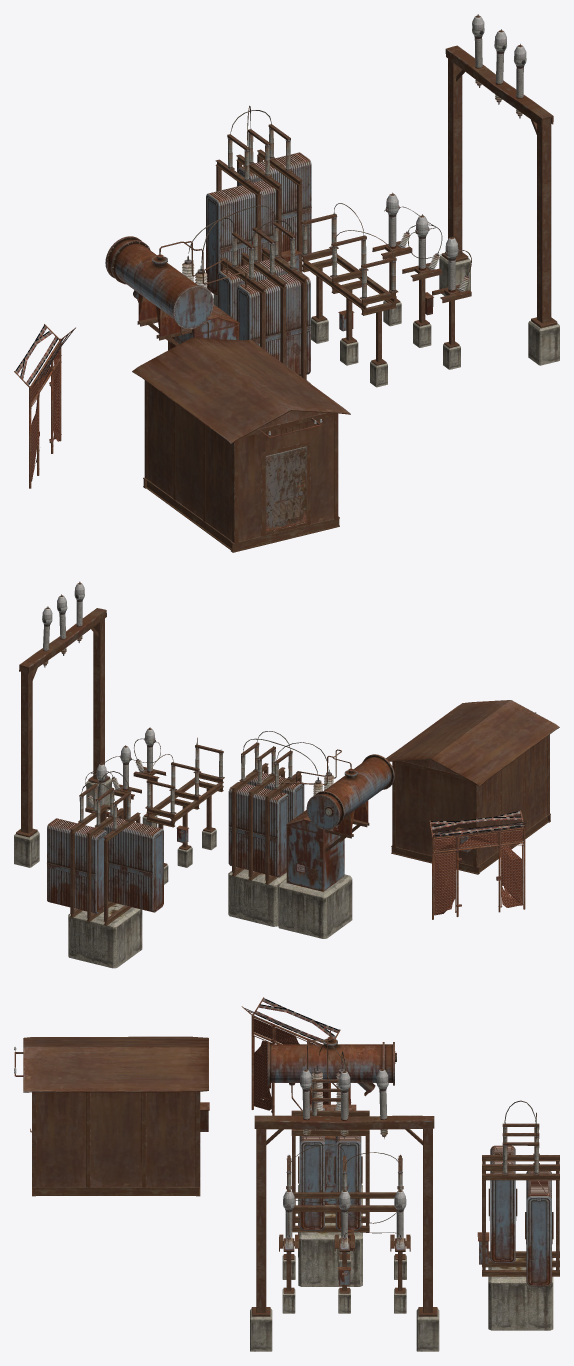
The model's file is power_sub_big_1-close.glb.
3 renders of one model, top to bottom at view 1: azimuth 30°, elevation 25°; view 2: azimuth 150°, elevation 25°; view 3: azimuth 270°, elevation 25°, orthographic. The views are drawn at different scales.
Visible parts, largest first — view 1: substation_b_LOD0, substation_d_LOD0, chainlink_fence_3x3_gate_LOD0; view 2: substation_b_LOD0, substation_d_LOD0, chainlink_fence_3x3_gate_LOD0; view 3: substation_b_LOD0, substation_d_LOD0, chainlink_fence_3x3_gate_LOD0.
Boxes of the visible parts, <box> form: substation_b_LOD0: <box>105,14,559,552</box>; substation_d_LOD0: <box>132,337,350,541</box>; chainlink_fence_3x3_gate_LOD0: <box>14,324,75,488</box>; substation_b_LOD0: <box>14,581,550,968</box>; substation_d_LOD0: <box>386,700,559,865</box>; chainlink_fence_3x3_gate_LOD0: <box>429,810,527,919</box>; substation_b_LOD0: <box>14,1030,559,1351</box>; substation_d_LOD0: <box>23,1036,208,1186</box>; chainlink_fence_3x3_gate_LOD0: <box>241,997,340,1115</box>.
Bounding box in the file's own units: 15.71 × 9.39 × 14.71.
7 materials, 7 textured.
